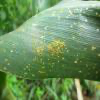Corn rust leaf: (0, 2, 99, 82)
